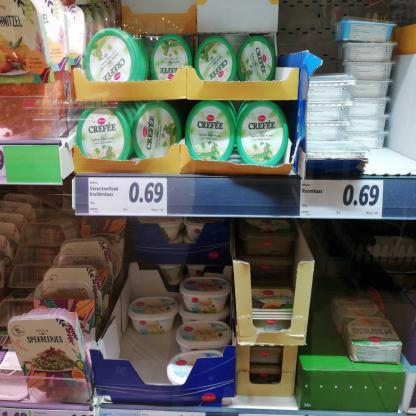prtg: (301, 181, 385, 220), (89, 179, 168, 217)
